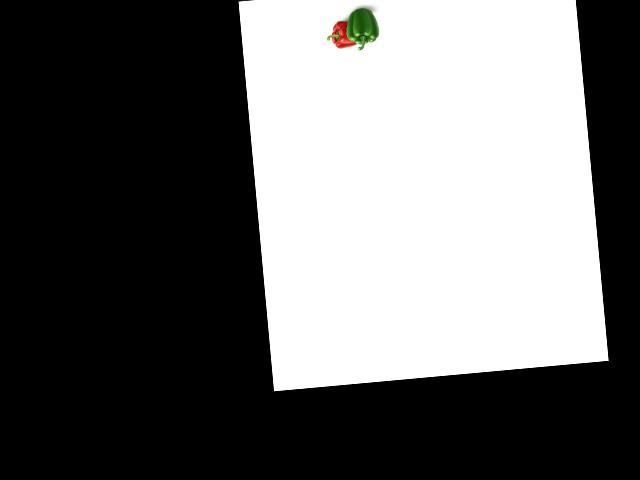bell_pepper: (325, 20, 358, 53)
